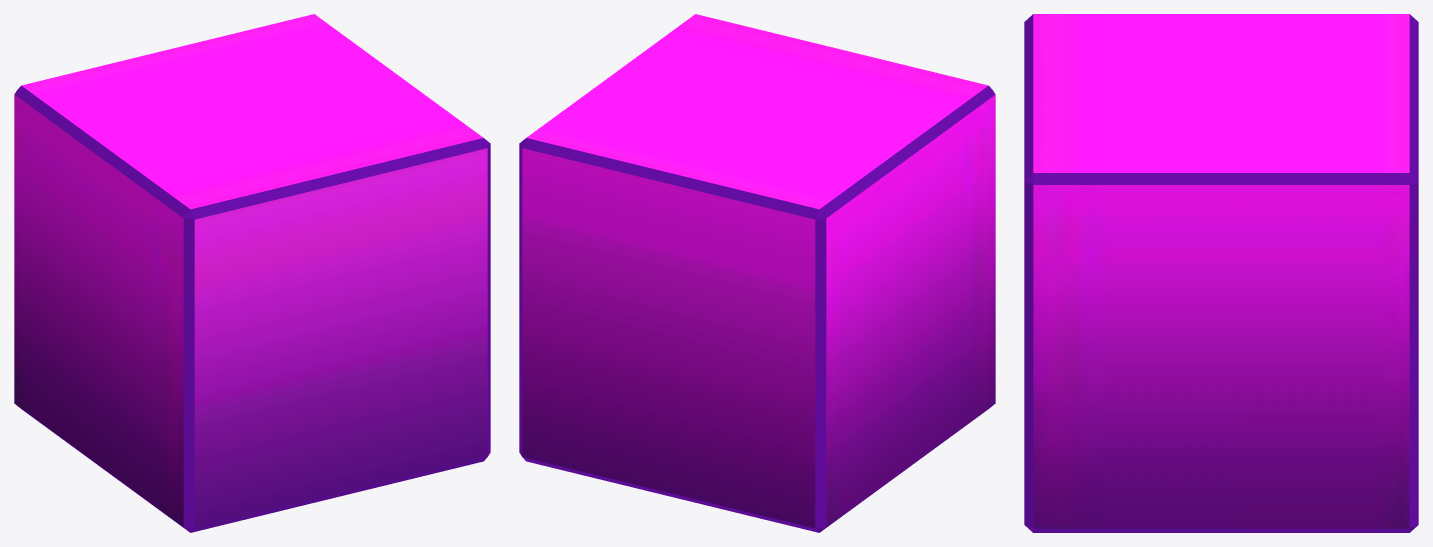
3 views of the same model, side by side, from view 1: azimuth 30°, elevation 25°; view 2: azimuth 150°, elevation 25°; view 3: azimuth 270°, elevation 25° (orthographic). The views are drawn at different scales.
Visible parts, largest first — view 1: CyberPunkCubeShapeB.009; view 2: CyberPunkCubeShapeB.009; view 3: CyberPunkCubeShapeB.009.
Part boxes in pixels (x1,y1,x2,y2): CyberPunkCubeShapeB.009: (14, 14, 490, 532); CyberPunkCubeShapeB.009: (519, 14, 995, 532); CyberPunkCubeShapeB.009: (1024, 14, 1418, 532).
Size of what is drawn, in the model's own units: 0.7415 by 0.7467 by 0.7415.
2 materials, 2 textured.
